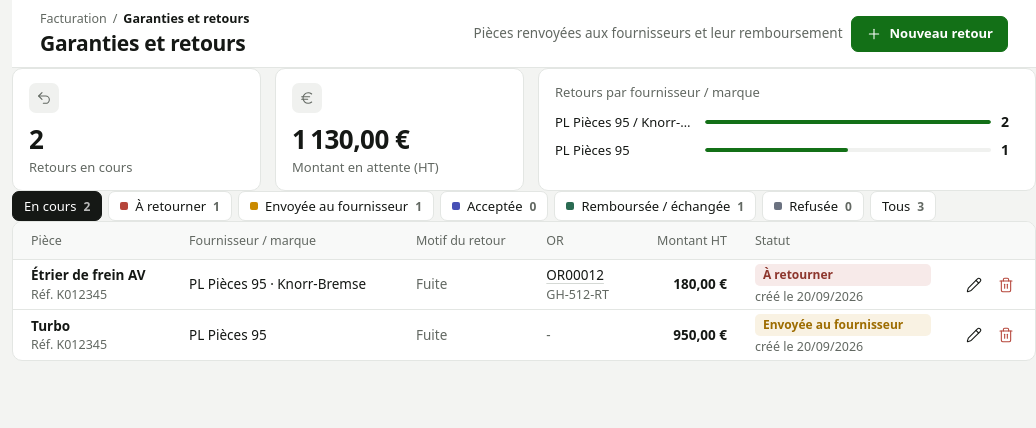
Test: garanties : écran › liste des retours en cours, statistiques, liens OR et véhicule
Expected: the row "Étrier de frein AV" shows "À retourner", x1=763 y1=266 x2=833 y2=283
Expected: the row "Turbo" shows "Envoyée au fournisseur", x1=763 y1=316 x2=903 y2=333
Click the button "Tous 3" at (903, 206), box x1=870 y1=191 x2=936 y2=221
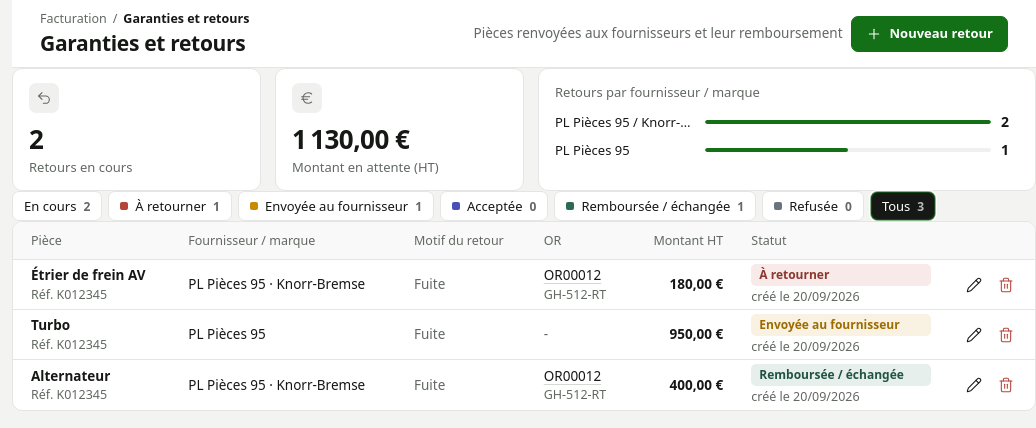
Now the row "Alternateur" is shown, box x1=13 y1=360 x2=1035 y2=410
